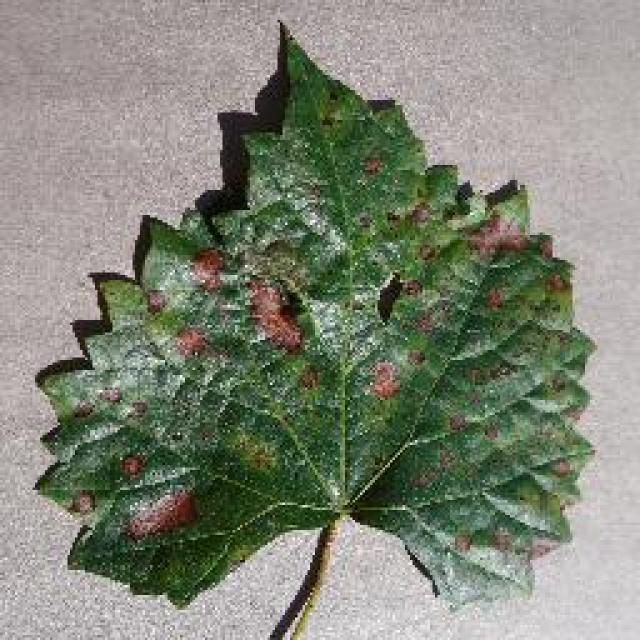Gra_Esca_Black_Measles: (142, 238, 332, 384), (382, 185, 552, 336), (58, 382, 200, 544), (352, 345, 458, 406)
